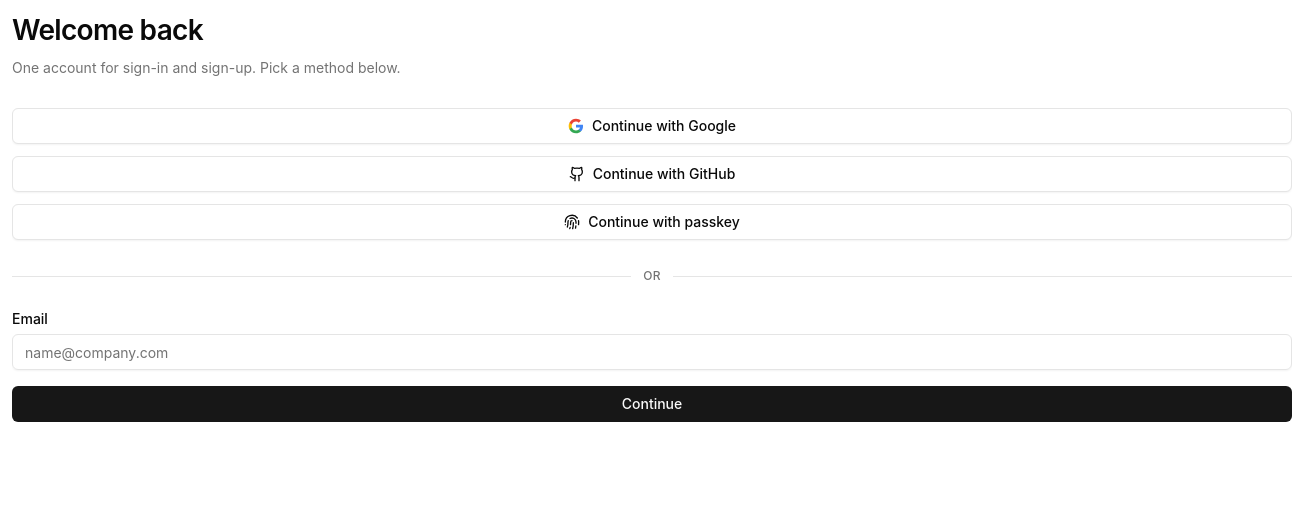
Test: AuthForm › surfaces an inline error banner when passkey sign-in fails
This screenshot has width=1304, height=513.
Click the button with test id "auth-continue-passkey" at [652, 222], box [12,204,1292,240]
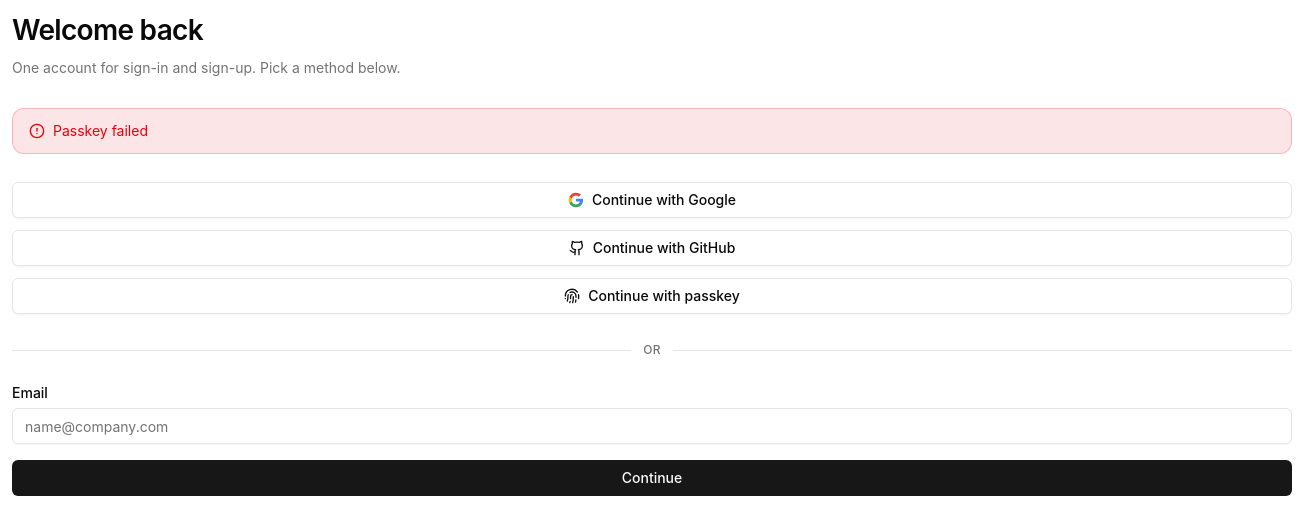
expect the message with test id "auth-method-error-banner" reads "Passkey failed": met, box [53,122,148,139]
